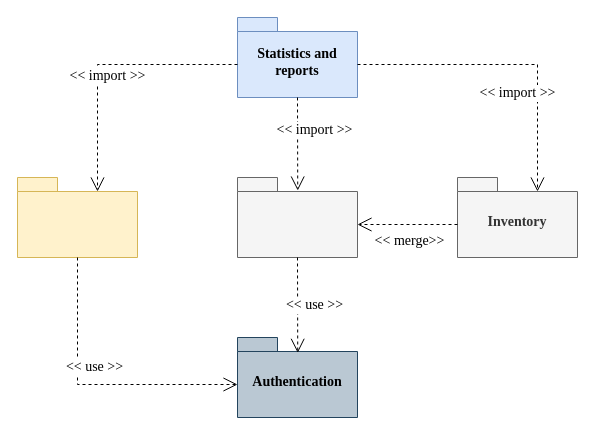
This 595x435 diagram has some shape labels left out. The centre of each missing label's shape, as x and y in pixels:
Books management: the point at 297,217
Users management: the point at 77,217
